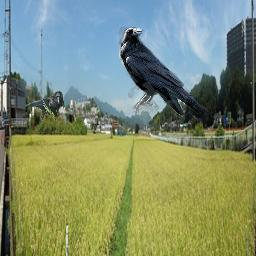Crow: (119, 27, 211, 115), (25, 91, 64, 121)
